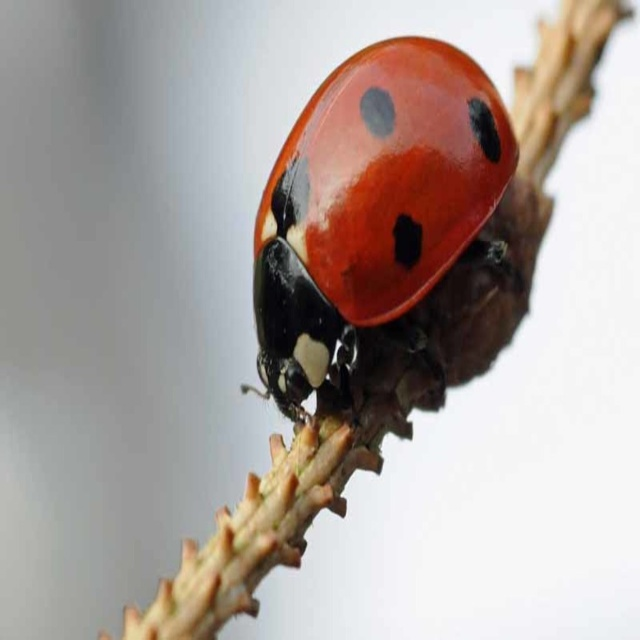Ladybug: (235, 33, 523, 433)
